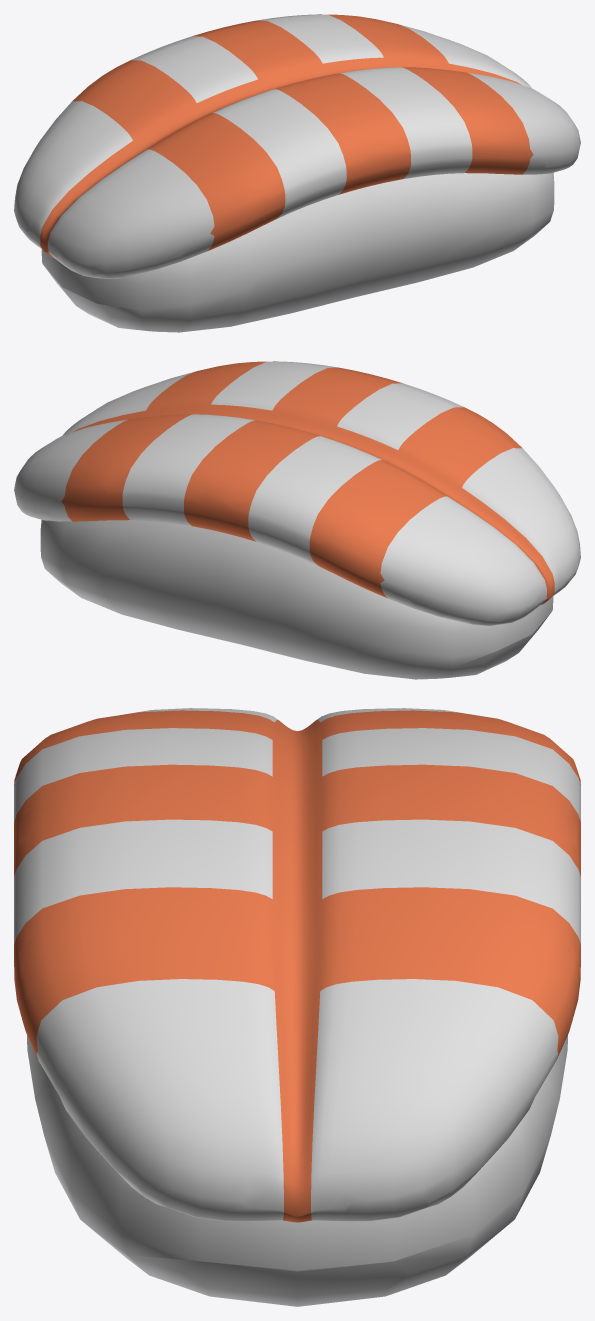
File: tamagotchi_sushi2.fbx
3 views of the same model, one above another, from view 1: azimuth 30°, elevation 25°; view 2: azimuth 150°, elevation 25°; view 3: azimuth 270°, elevation 25° (orthographic). The views are drawn at different scales.
Visible parts, largest first — view 1: Plane.003, Plane.002; view 2: Plane.003, Plane.002; view 3: Plane.003, Plane.002.
Part boxes in pixels (x1,y1,x2,y2): Plane.003: (14, 14, 580, 278); Plane.002: (41, 172, 554, 332); Plane.003: (14, 361, 580, 625); Plane.002: (40, 519, 553, 679); Plane.003: (14, 708, 580, 1222); Plane.002: (27, 1035, 567, 1306).
Bounding box in the file's own units: 226 × 91.24 × 125.
